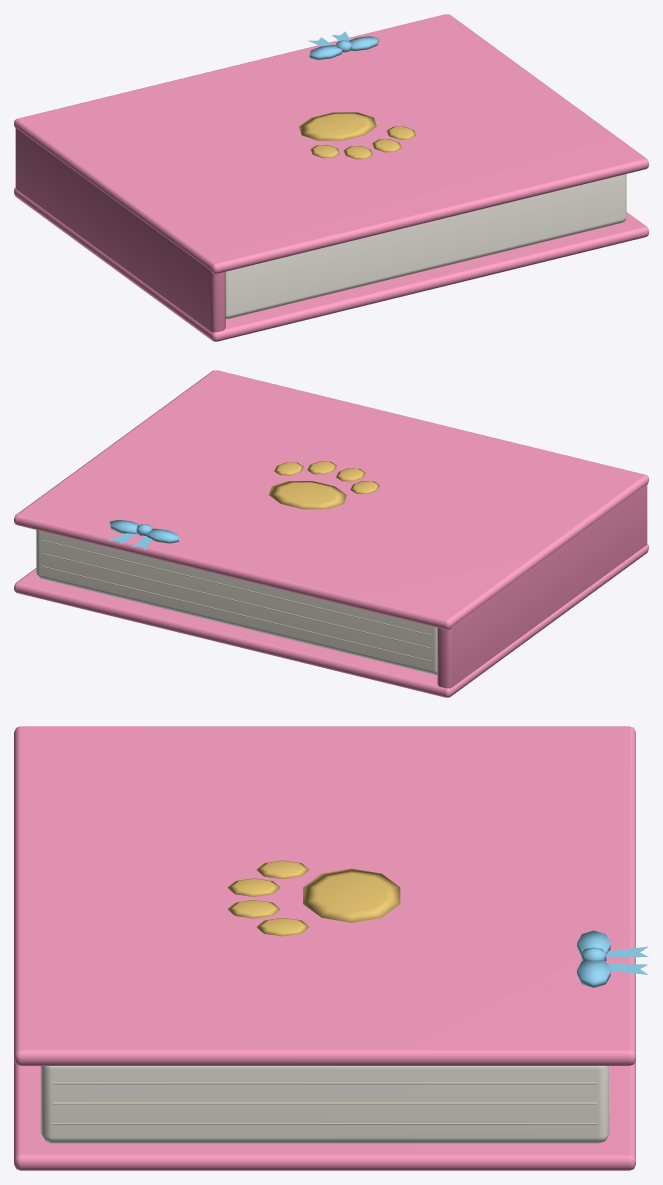
File: album_book.glb
3 views of the same model, one above another, from view 1: azimuth 30°, elevation 25°; view 2: azimuth 150°, elevation 25°; view 3: azimuth 270°, elevation 25° (orthographic). The views are drawn at different scales.
Parts seen in each view (by area): view 1: Cover, Pages, Spine, BackCover, GoldPawPad; view 2: Cover, Pages, Spine, BackCover, GoldPawPad, PageEdgeFront, PageEdgeFront.002, PageEdgeFront.001; view 3: Cover, Pages, BackCover, GoldPawPad, PageEdgeSide.001, PageEdgeSide.002, PageEdgeSide, RibbonLoop.001, GoldPawToe_2, GoldPawToe_4, GoldPawToe_3, GoldPawToe_1.
Part boxes in pixels (x1,y1,x2,y2): Cover: [14, 14, 648, 273]; Pages: [225, 174, 626, 318]; Spine: [15, 128, 225, 332]; BackCover: [14, 188, 648, 341]; GoldPawPad: [299, 112, 376, 140]; Cover: [14, 370, 648, 629]; Pages: [36, 530, 437, 674]; Spine: [437, 484, 647, 688]; BackCover: [14, 544, 648, 697]; GoldPawPad: [269, 481, 346, 509]; PageEdgeFront: [42, 566, 430, 661]; PageEdgeFront.002: [42, 540, 430, 635]; PageEdgeFront.001: [42, 553, 430, 648]; Cover: [14, 726, 635, 1065]; Pages: [40, 1066, 609, 1143]; BackCover: [14, 1060, 635, 1170]; GoldPawPad: [303, 868, 400, 922]; PageEdgeSide.001: [53, 1102, 597, 1104]; PageEdgeSide.002: [53, 1082, 597, 1084]; PageEdgeSide: [53, 1123, 597, 1124]; RibbonLoop.001: [577, 960, 610, 987]; GoldPawToe_2: [227, 878, 280, 896]; GoldPawToe_4: [256, 917, 308, 936]; GoldPawToe_3: [227, 900, 280, 918]; GoldPawToe_1: [256, 860, 308, 879].
Size of the model in its own units: 0.35 by 0.0672 by 0.2858.
Materials: 1 (1 with a texture image).
